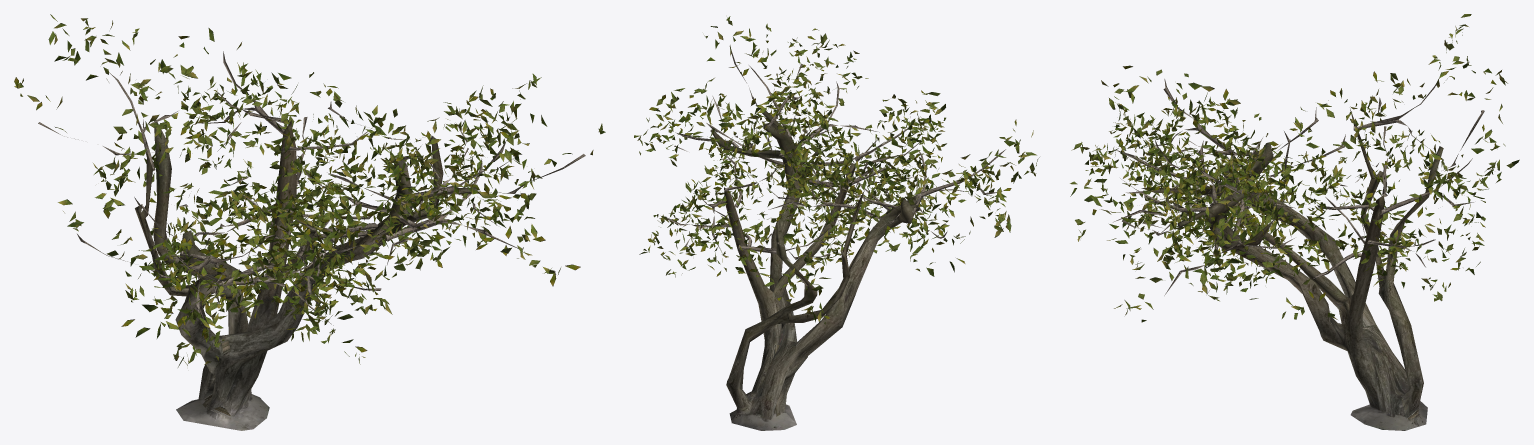
File: island_tree_02_far.glb
3 views of the same model, side by side, from view 1: azimuth 30°, elevation 25°; view 2: azimuth 150°, elevation 25°; view 3: azimuth 270°, elevation 25° (orthographic). The views are drawn at different scales.
Parts seen in each view (by area): view 1: island_tree_02_LOD0; view 2: island_tree_02_LOD0; view 3: island_tree_02_LOD0.
Boxes of the visible parts, left/top/right/bottom form: island_tree_02_LOD0: left=14, top=14, right=605, bottom=430; island_tree_02_LOD0: left=634, top=16, right=1039, bottom=430; island_tree_02_LOD0: left=1070, top=14, right=1519, bottom=430.
Size of the model in its own units: 3.78 by 3.4 by 4.02.
3 materials, 3 textured.
